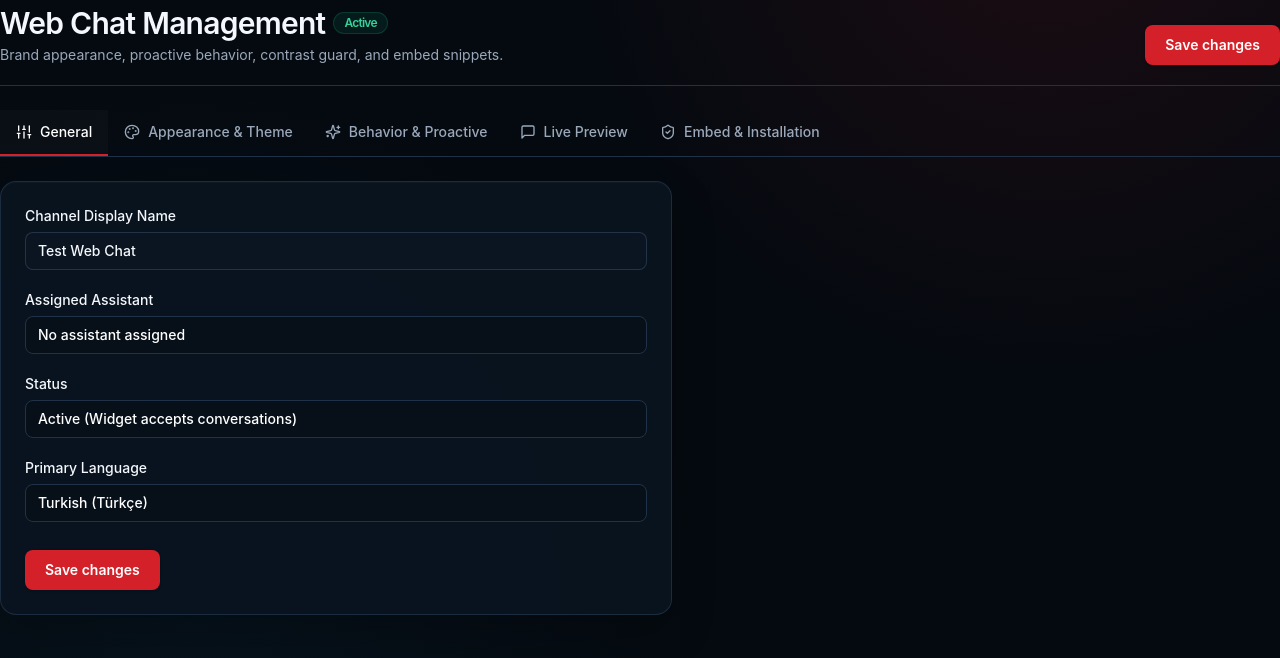
WebChatManagement Component › provides explicit Transparent and Use Color controls with checkerboard swatch and non-corrupting restoration
Click the button "Appearance & Theme" at (208, 133), box [108,110,309,156]
(page scrolled)
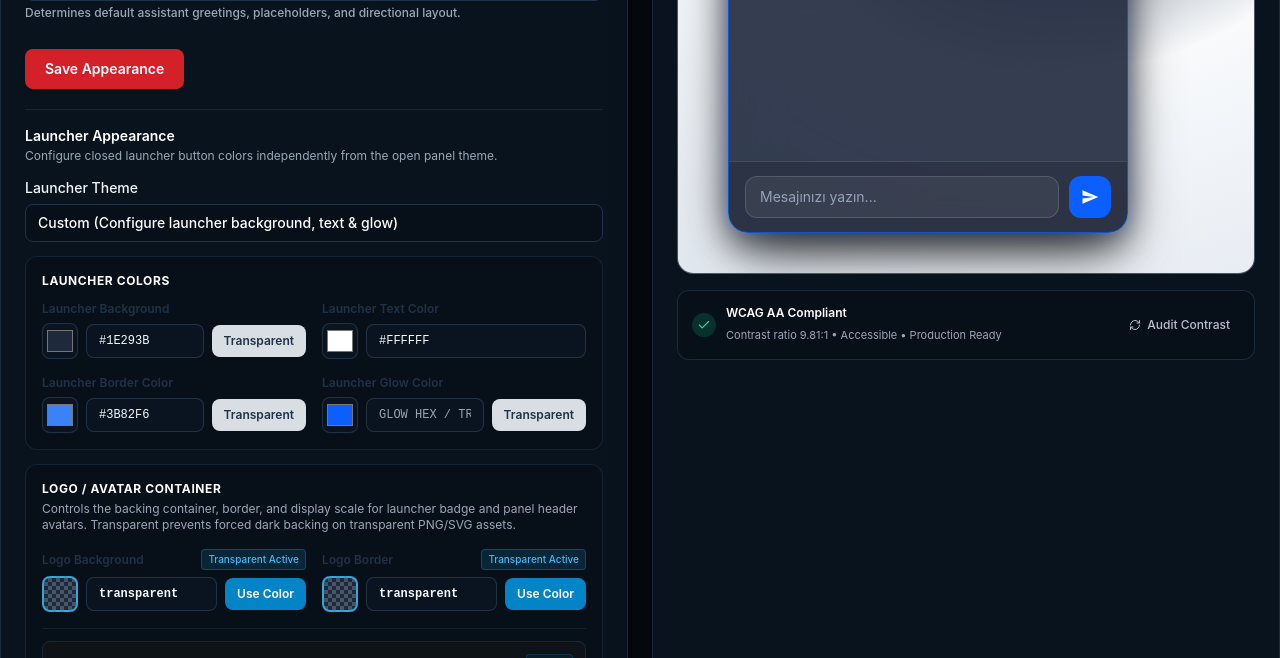
Expected: the element with test id "launcher-custom-controls" is shown, [25,256,603,450]
Expected: the heading "LOGO / AVATAR CONTAINER" is shown, [42,481,222,496]
Expected: the colour field with test id "launcher-bg-control-color-picker" is shown, [42,323,78,359]
Note: Click Transparent
Click the button with test id "launcher-bg-control-transparent-btn" at (259, 341), box [212,325,306,357]
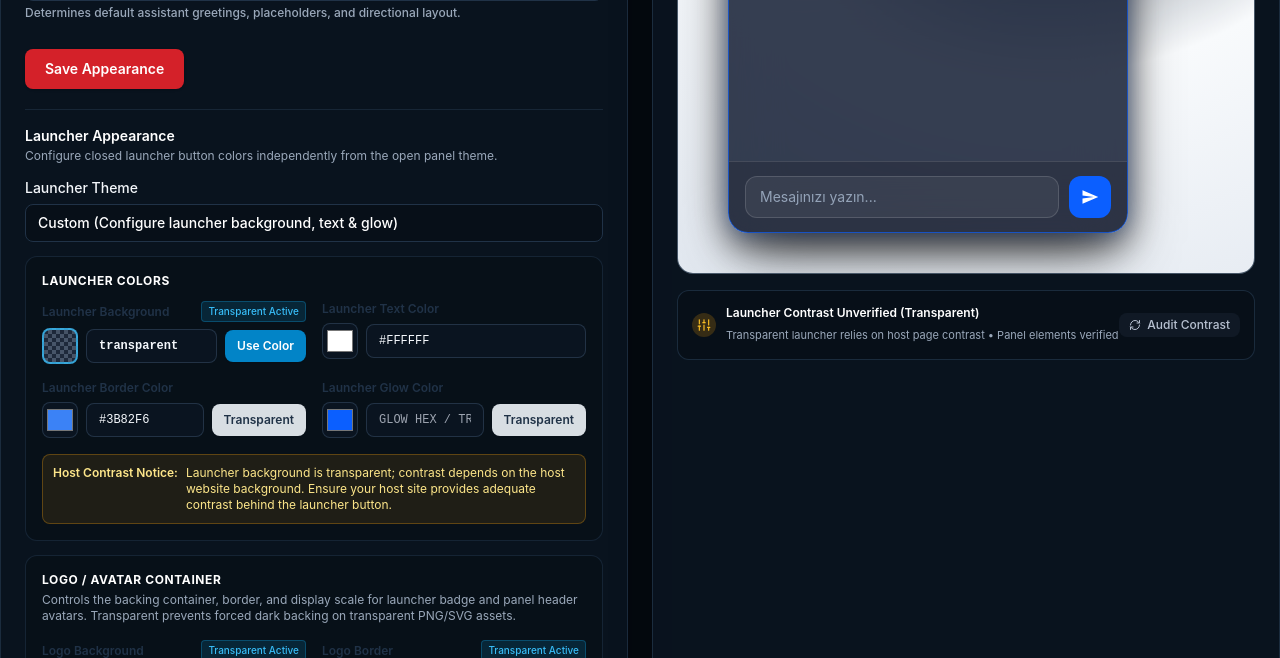
Expected: the element with test id "launcher-bg-control-swatch-transparent" is shown, [42,328,78,364]
Expected: the button with test id "launcher-bg-control-use-color-btn" is shown
Expected: the 1st field showing "transparent" is shown, [86,329,217,363]
Click the button with test id "launcher-bg-control-use-color-btn" at (266, 346), box [225,330,306,362]
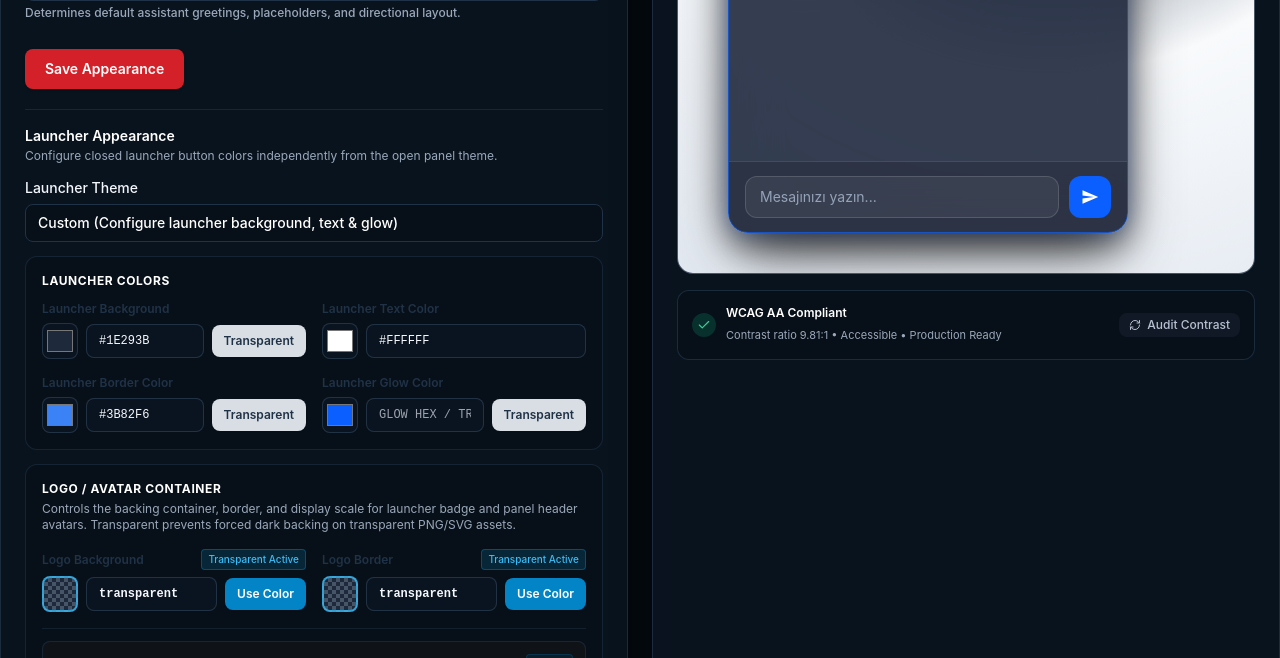
Expected: the element with test id "launcher-logo-bg-control-swatch-transparent" is shown, [42,576,78,612]
Expected: the field showing "#1E293B" below "Launcher Background" is shown, [86,324,204,358]
Expected: the button with test id "launcher-bg-control-transparent-btn" is shown, [212,325,306,357]
Note: Click Use Color on Logo Background
Click the button with test id "launcher-logo-bg-control-use-color-btn" at (266, 594), box [225,578,306,610]
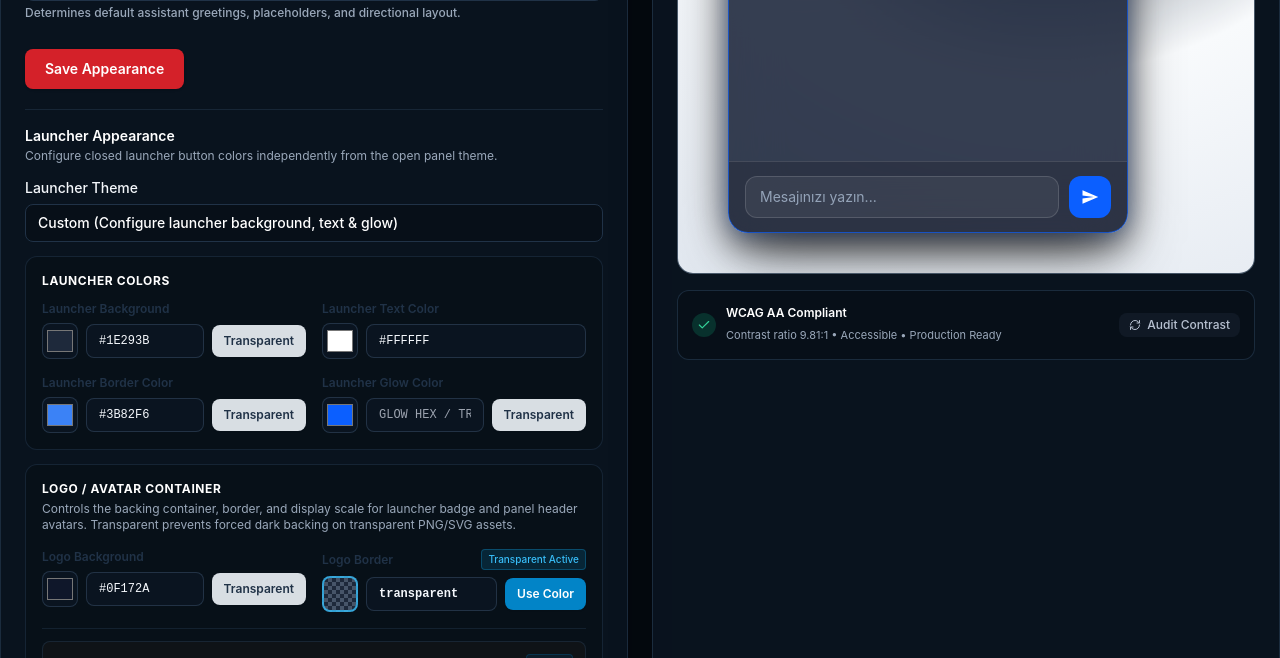
Expected: the colour field with test id "launcher-logo-bg-control-color-picker" is shown, [42,571,78,607]
Expected: the button with test id "launcher-logo-bg-control-transparent-btn" is shown
Note: Switch it back to Transparent
Click the button with test id "launcher-logo-bg-control-transparent-btn" at (259, 589), box [212,573,306,605]
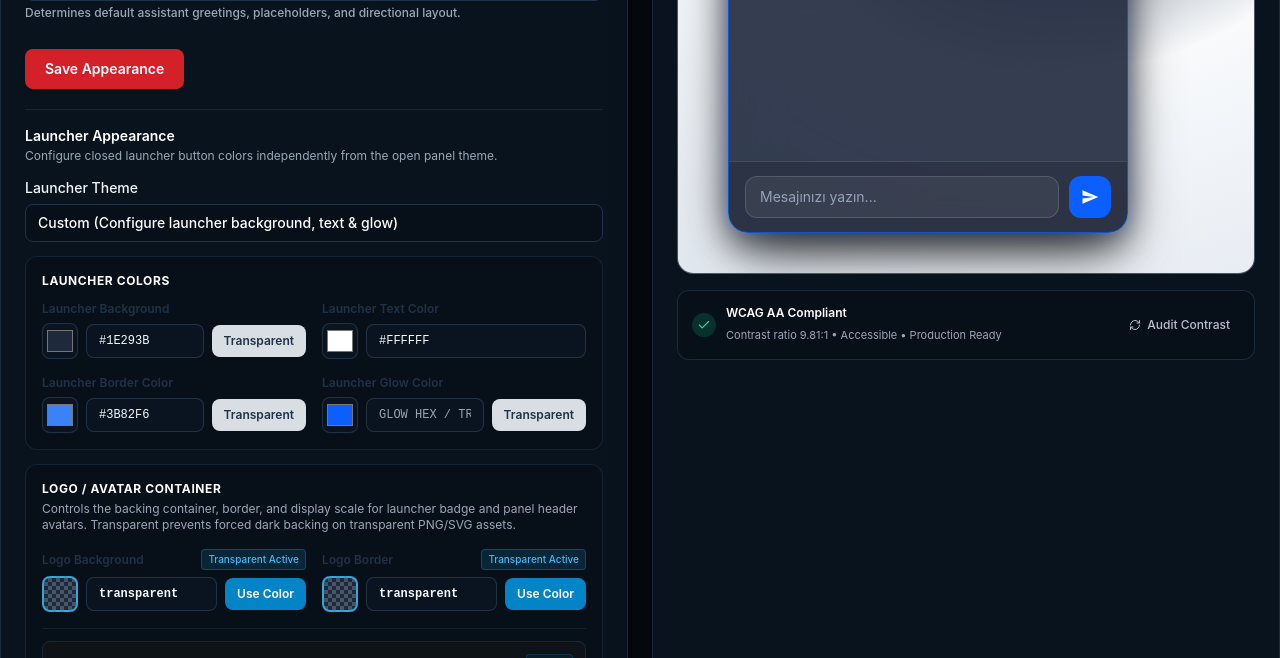
Expected: the element with test id "launcher-logo-bg-control-swatch-transparent" is shown, [42,576,78,612]
